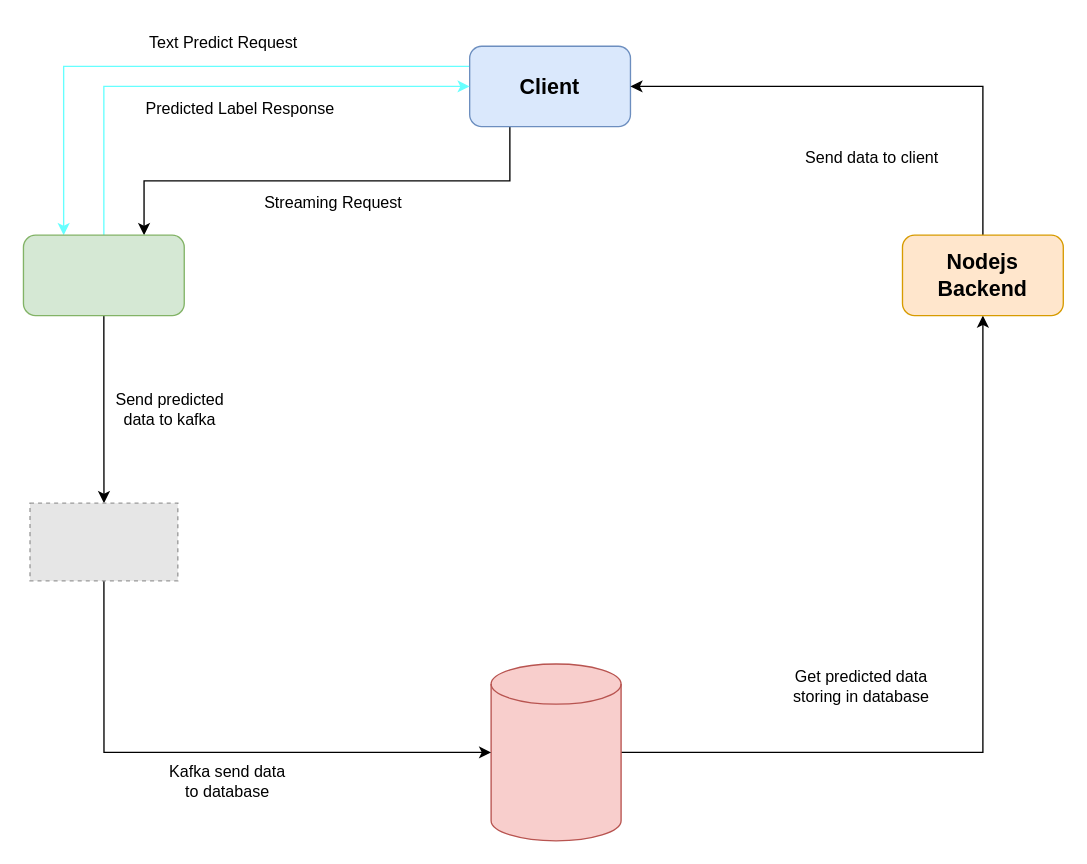
This 1087x864 diagram has some shape labels left out. Grey dashed boxes stand in for pictures. Here are the shapes that lost their labels. From the top down, the centre of each, then its label:
(103,275): Flask Backend
(555,752): Database
